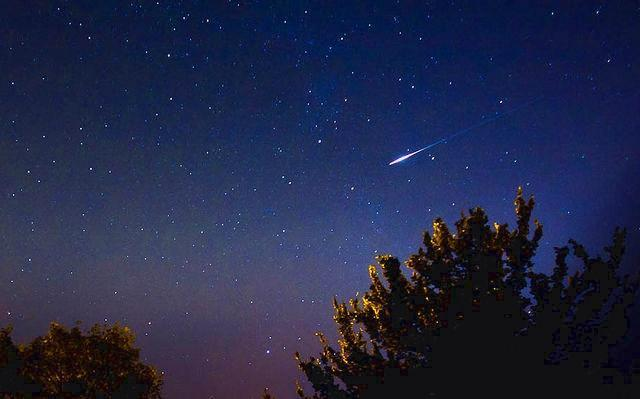meteorite: (374, 94, 527, 167)
